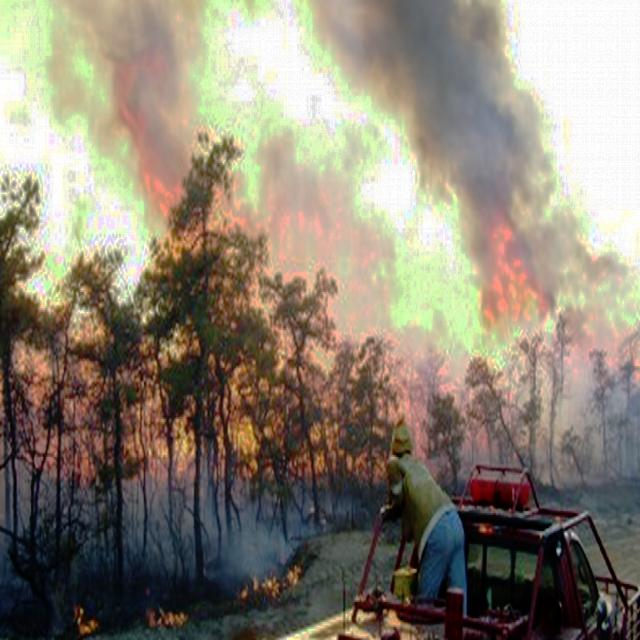api: (236, 559, 306, 612), (140, 602, 189, 634), (76, 601, 102, 640)
asap: (307, 1, 603, 367), (59, 1, 221, 252), (109, 472, 301, 579)
